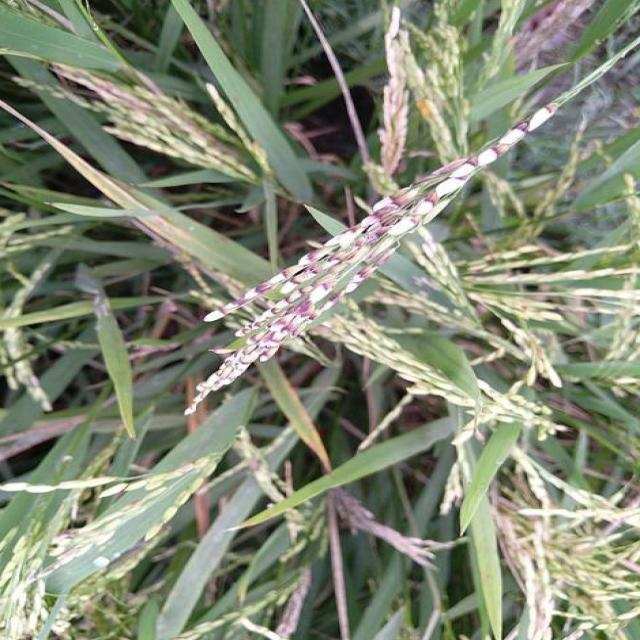Panicle Blight: (185, 101, 560, 416), (48, 62, 206, 140), (516, 328, 547, 377), (48, 529, 93, 561), (471, 261, 489, 275), (520, 303, 528, 310)
